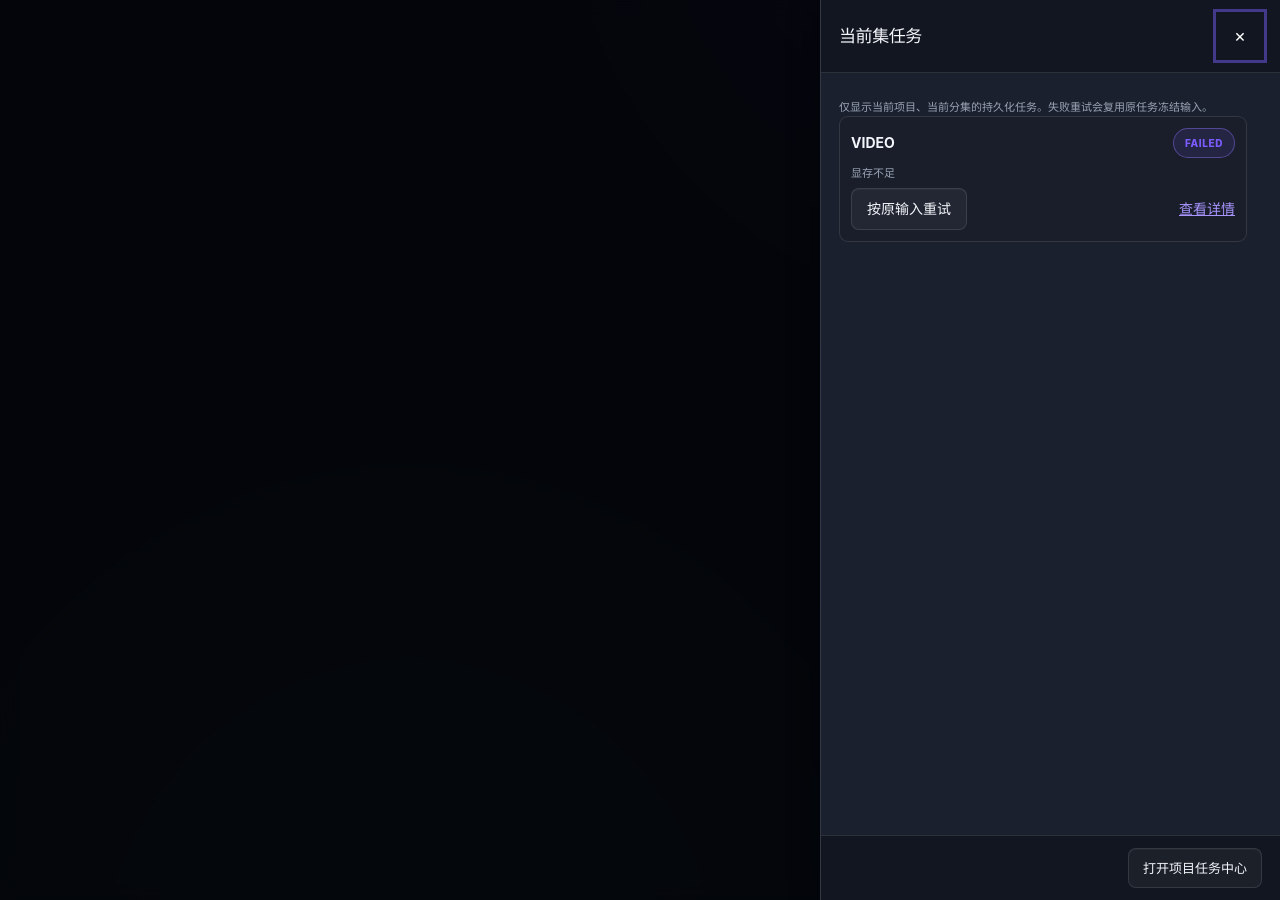
Test: R03 episode retry boundaries › 确定拒绝时行内错误可见
The image size is (1280, 900).
Click the button "按原输入重试".
click(909, 209)  # box x1=851 y1=188 x2=967 y2=230
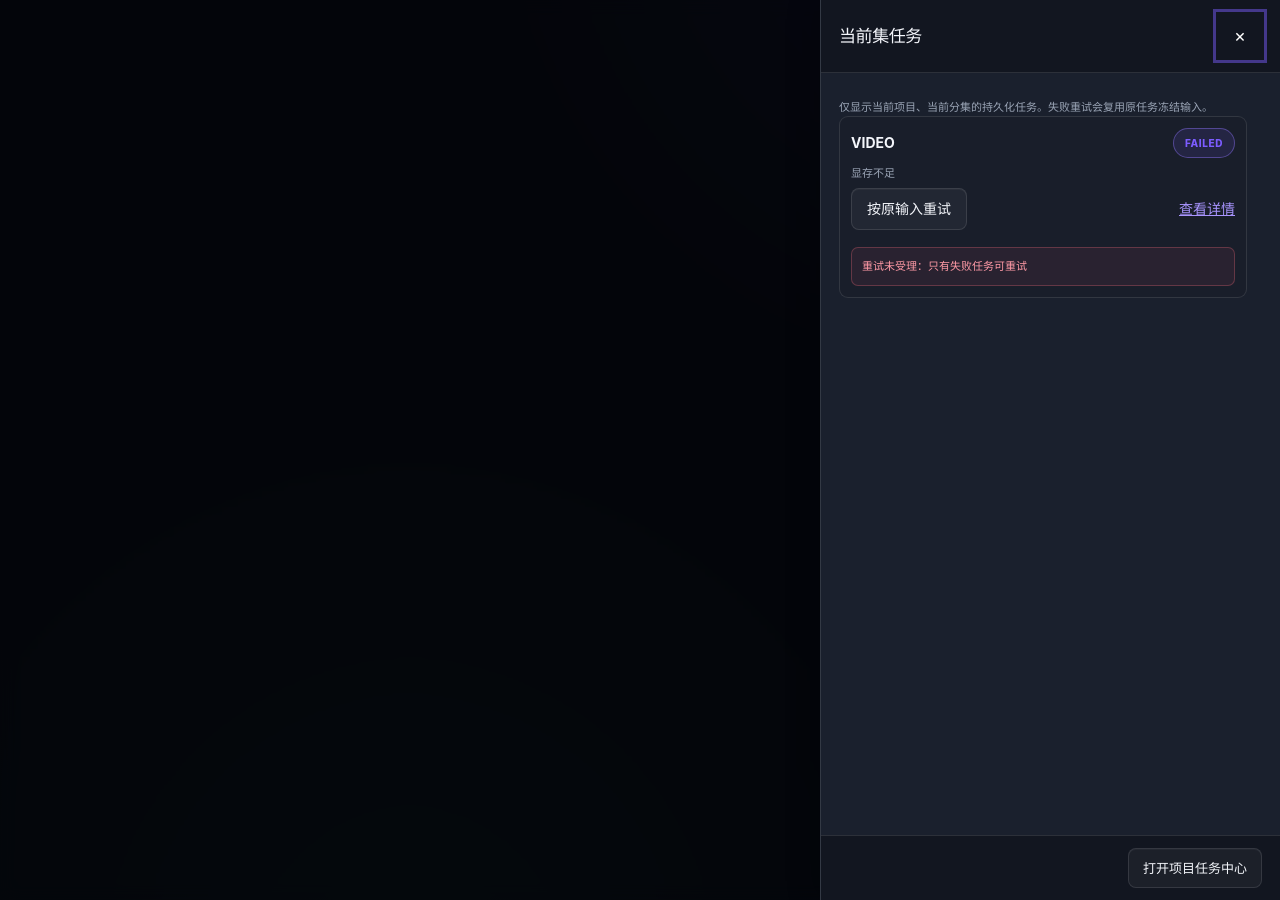
Expected: the text "重试未受理：只有失败任务可重试" is shown, x1=851 y1=247 x2=1235 y2=286
